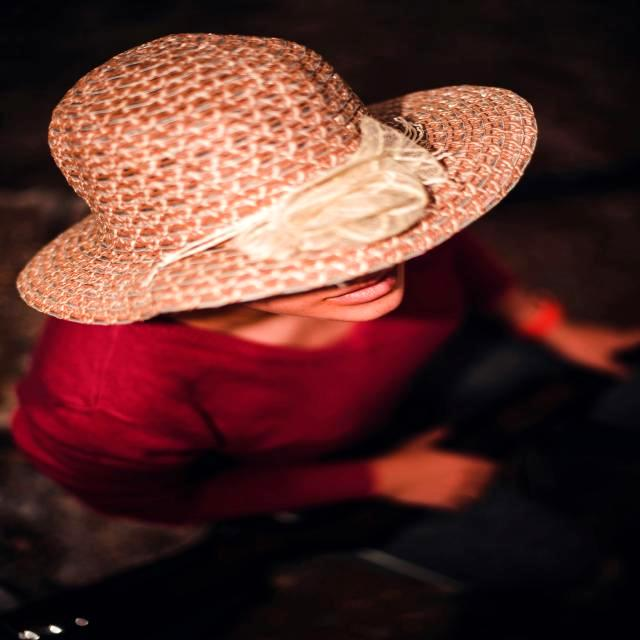no_hard_hat: (18, 34, 537, 325)
person: (9, 34, 640, 640)
